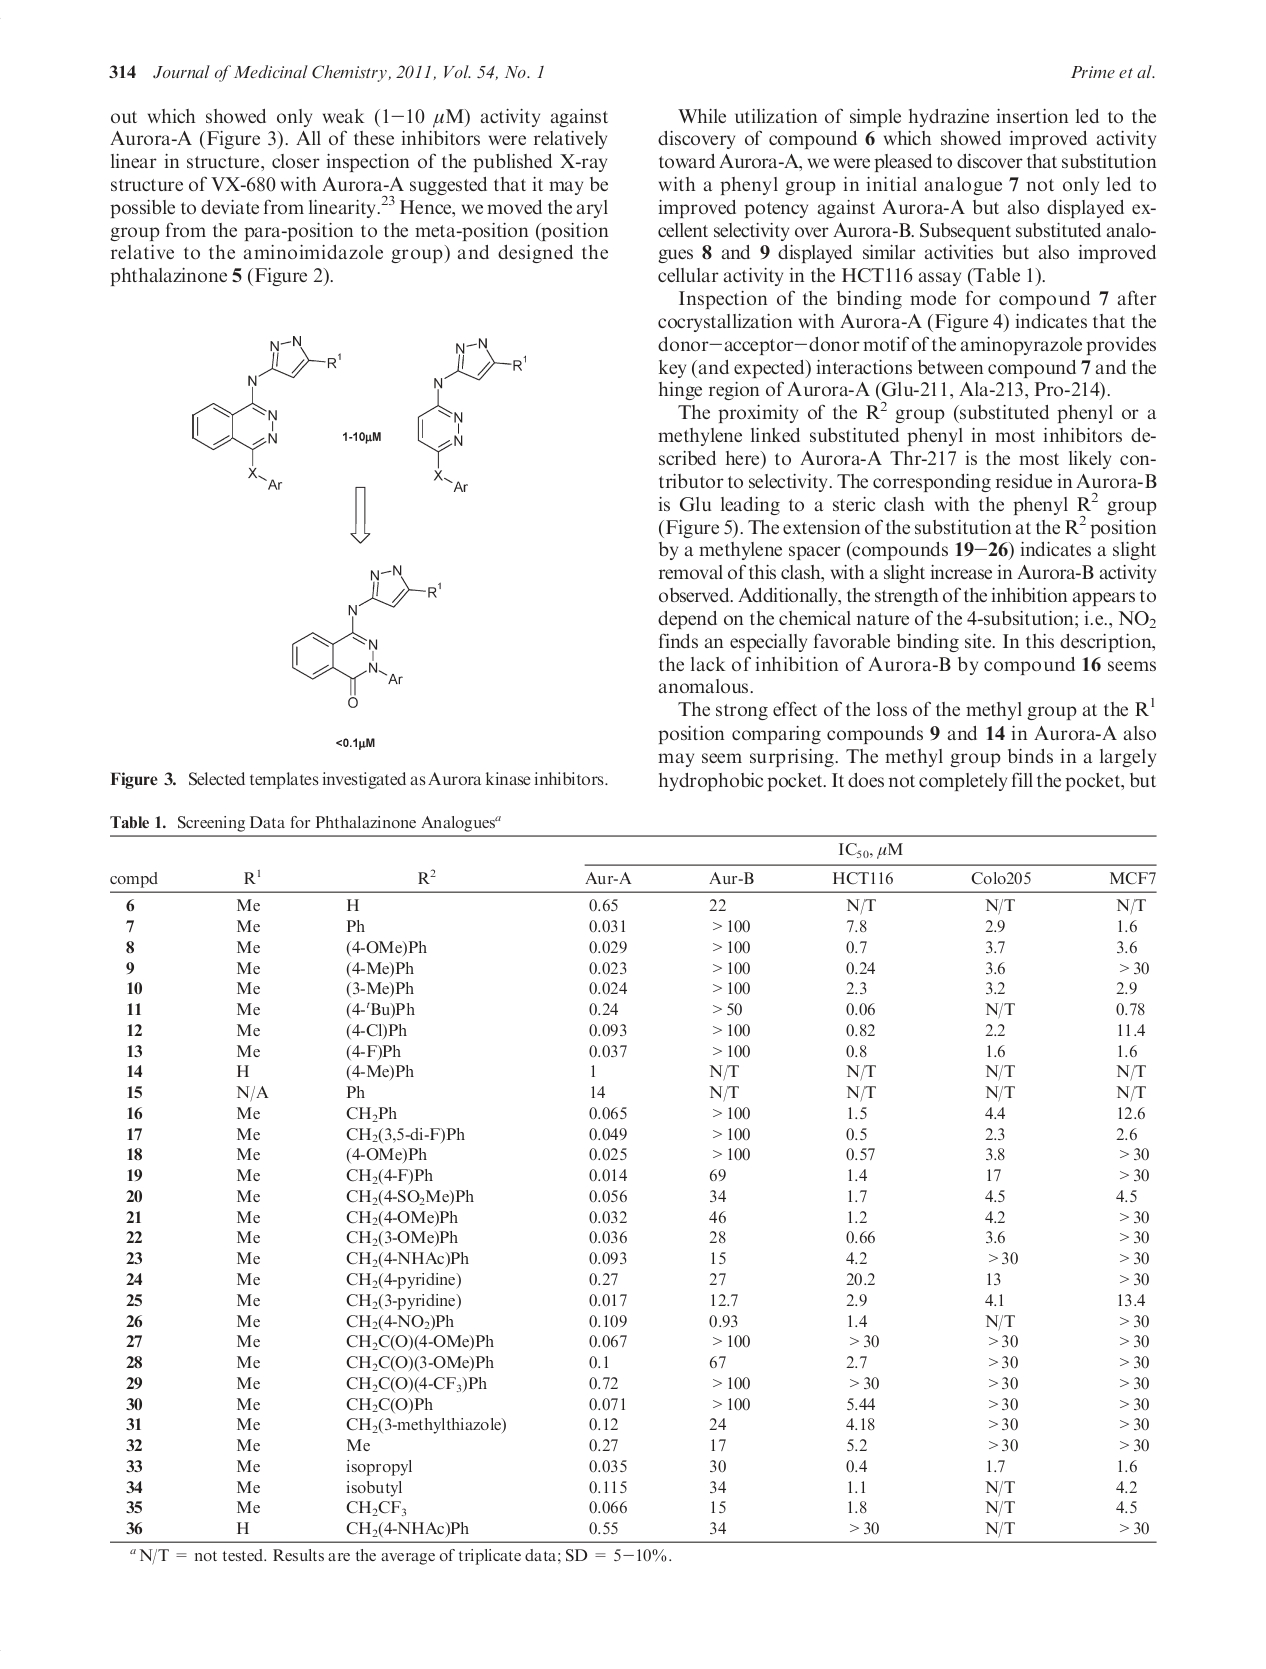exist_molecular: (279, 563, 447, 715), (186, 331, 342, 493), (412, 324, 533, 497)
